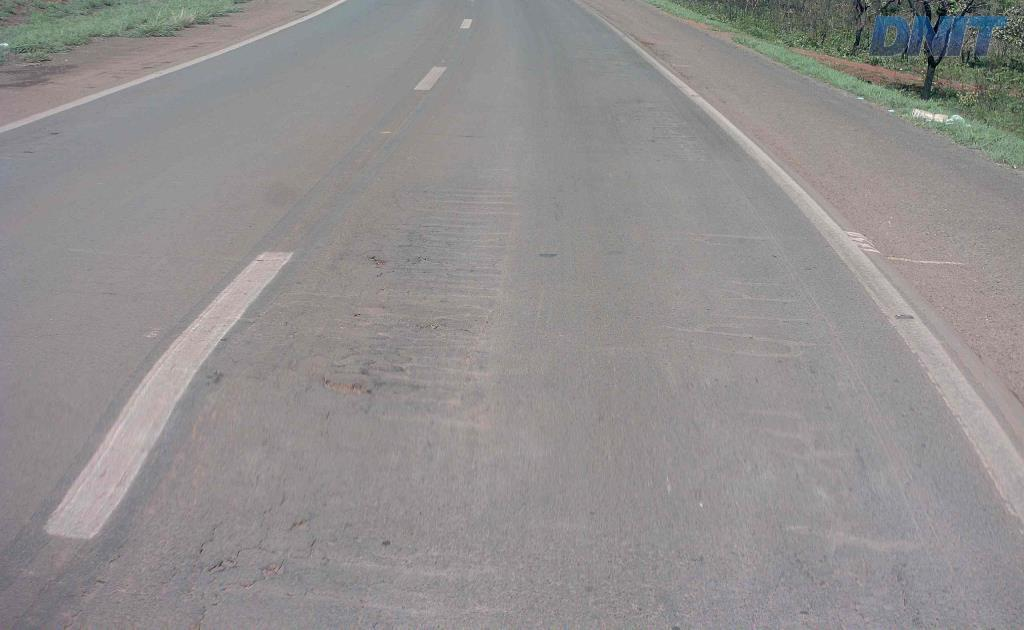pothole: (318, 366, 370, 396)
